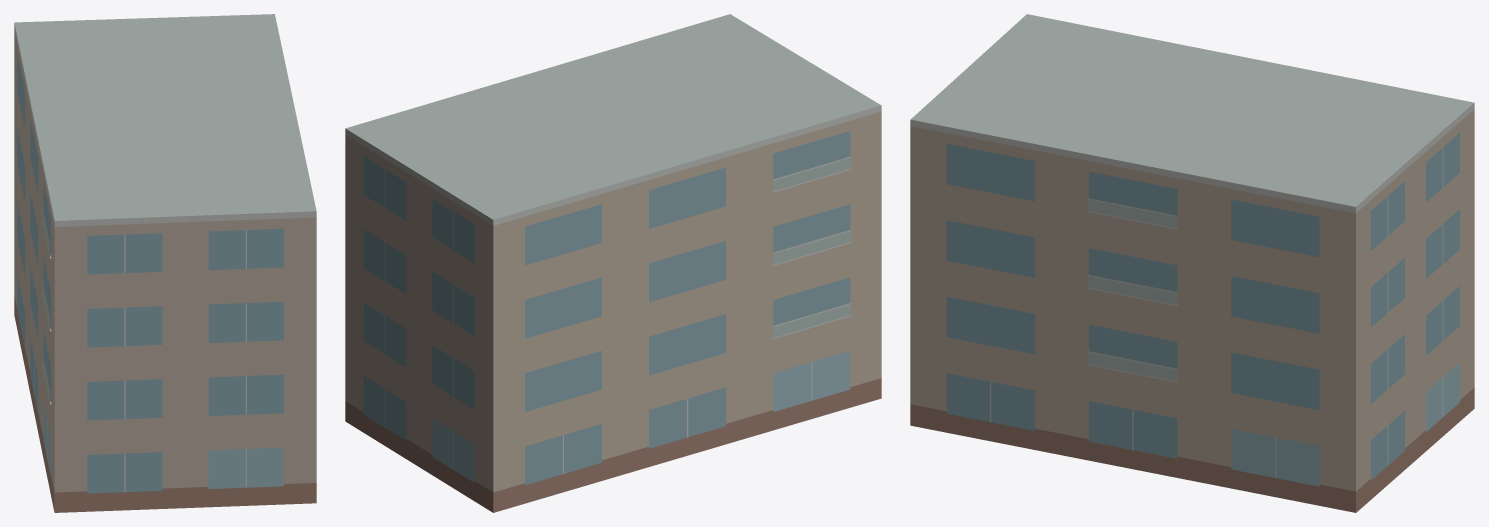
The model's file is survey-upis-33008974.glb.
3 views of the same model, side by side, from view 1: azimuth 30°, elevation 25°; view 2: azimuth 150°, elevation 25°; view 3: azimuth 270°, elevation 25° (orthographic). The views are drawn at different scales.
Parts seen in each view (by area): view 1: survey-upis-33008974.tmp; view 2: survey-upis-33008974.tmp; view 3: survey-upis-33008974.tmp.
Part boxes in pixels (x1,y1,x2,y2): survey-upis-33008974.tmp: (14, 14, 316, 512); survey-upis-33008974.tmp: (345, 14, 881, 512); survey-upis-33008974.tmp: (910, 14, 1474, 512).
Bounding box in the file's own units: 15.83 × 11.7 × 19.56.
